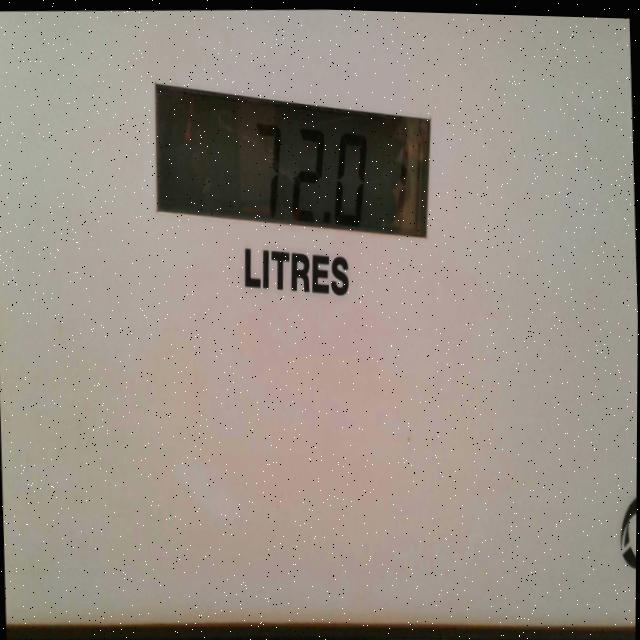.: (322, 203, 334, 228)
0: (329, 116, 370, 230)
2: (287, 119, 326, 225)
7: (247, 109, 286, 224)
